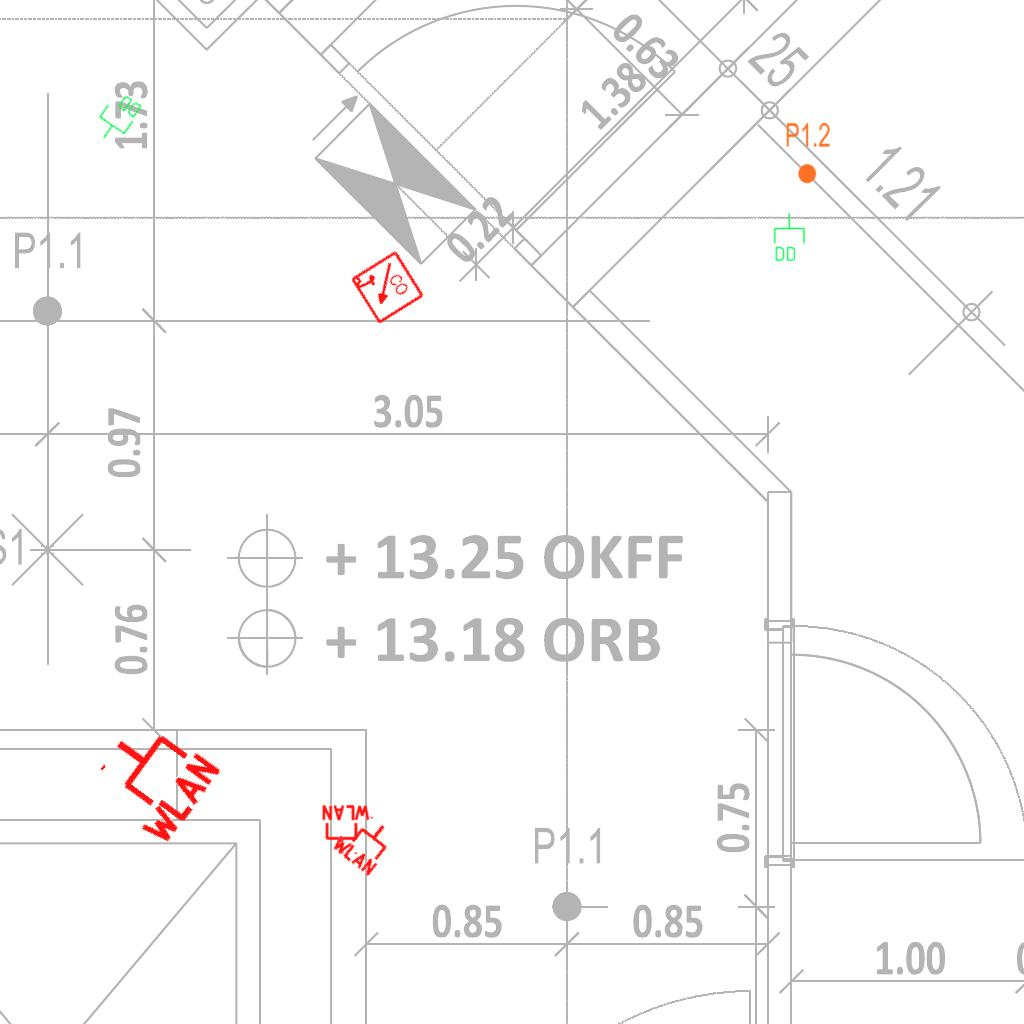Datenanschluss_zweifach: (89, 87, 146, 149), (772, 212, 806, 263)
Downlight_LED_Einbauleuchten_Flur: (785, 121, 831, 185)
ROA_Rauchmelder_optisch_mit_Signalgeber_(Sockelsirene): (348, 249, 426, 327)
WLAN: (79, 706, 226, 852), (328, 805, 402, 879), (320, 804, 372, 856)
